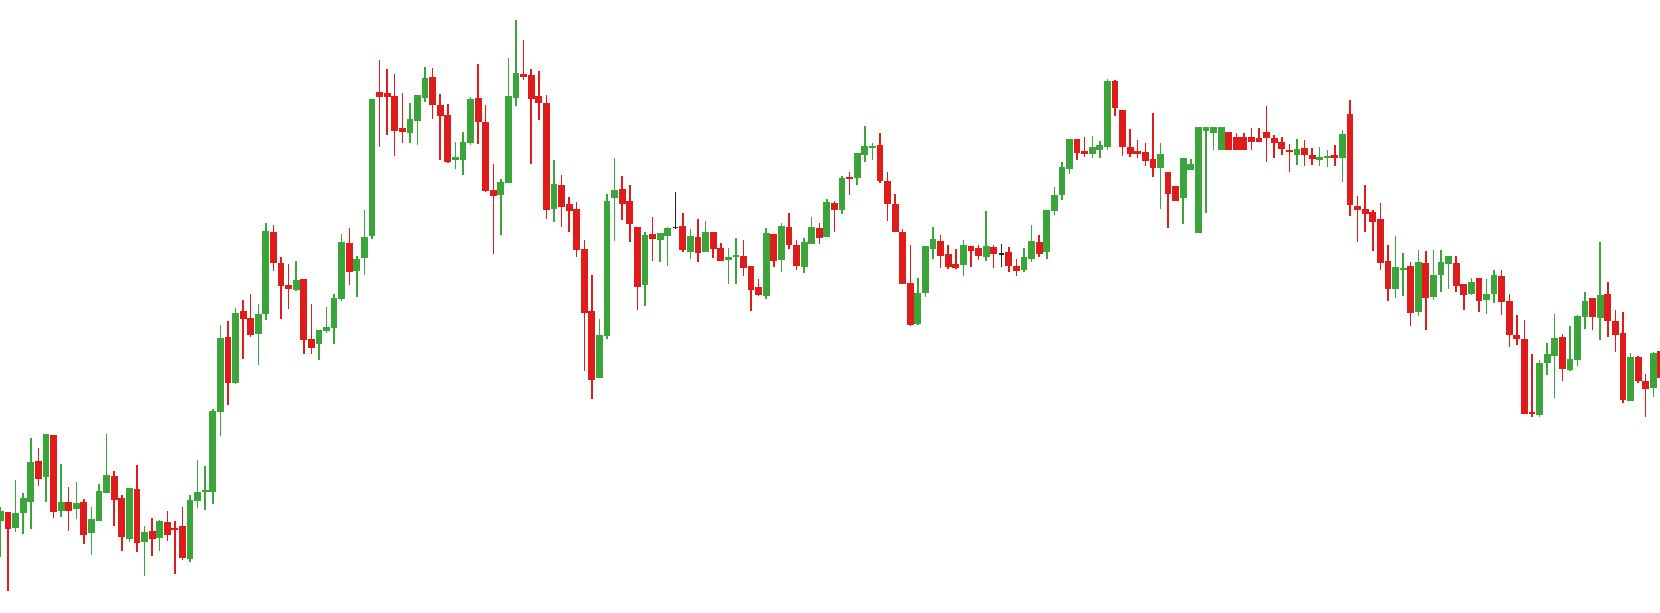buy: (746, 217, 924, 332)
sell: (472, 18, 528, 143)
